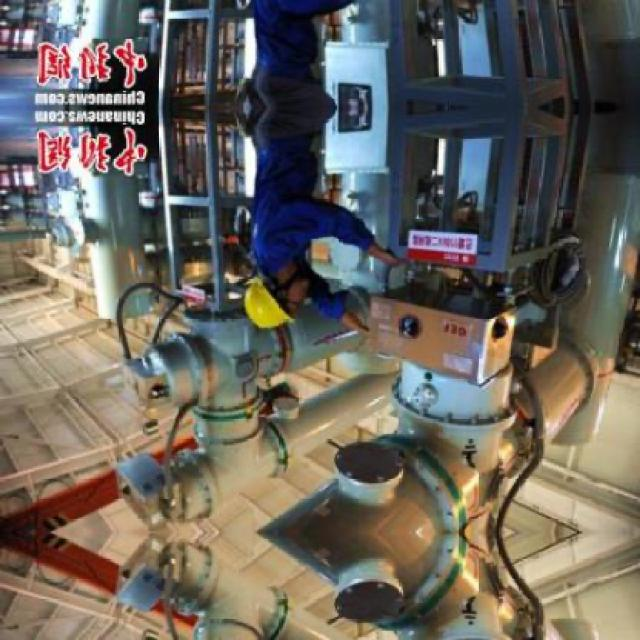con casco: (231, 262, 322, 345)
